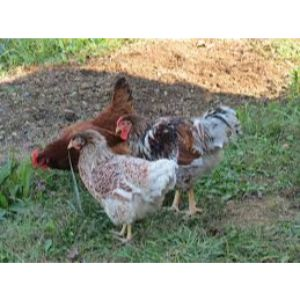hen: (114, 102, 242, 219), (66, 128, 178, 243), (29, 76, 130, 171)
